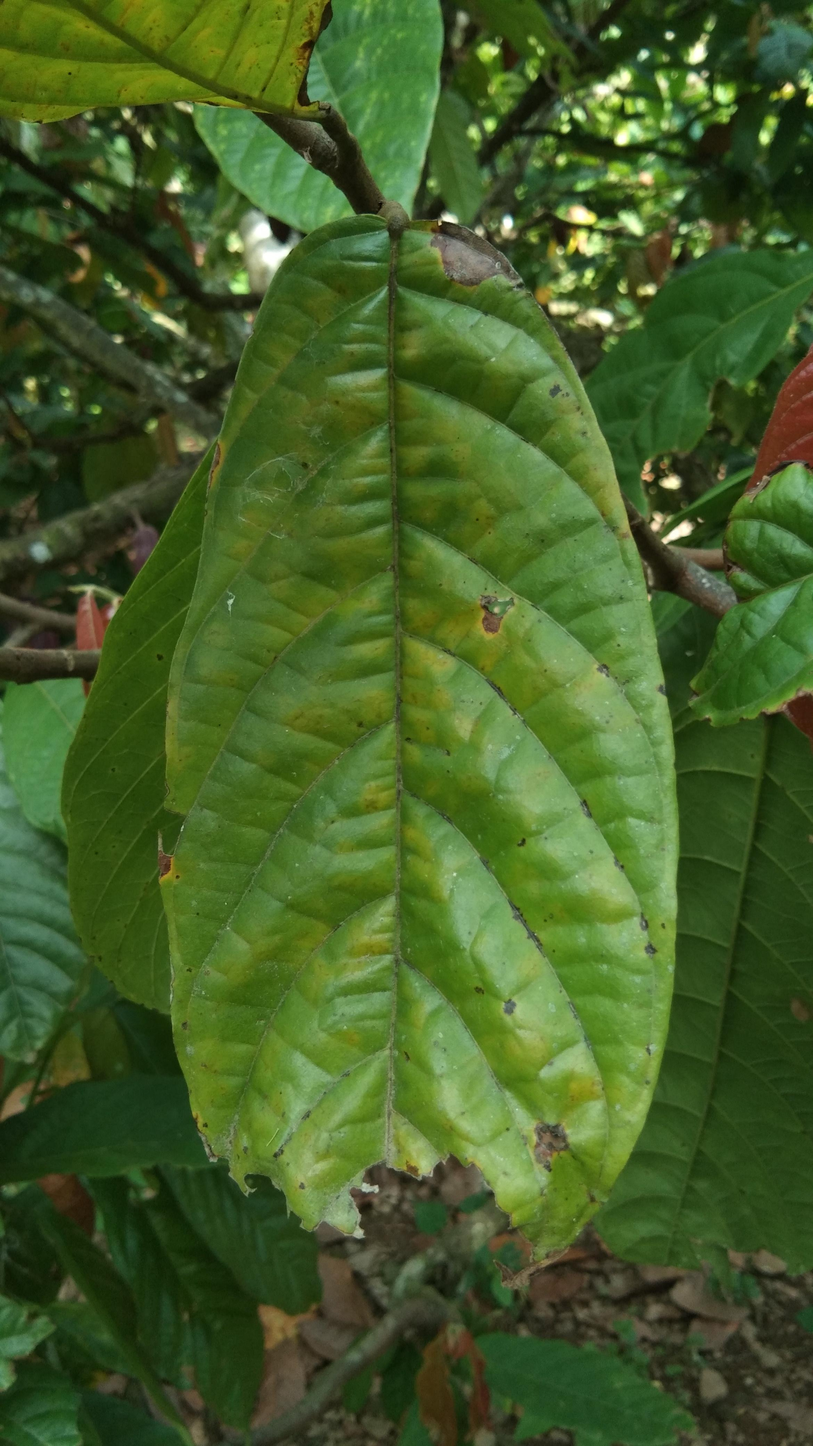deficiencia_potasio: (161, 215, 675, 1267)
